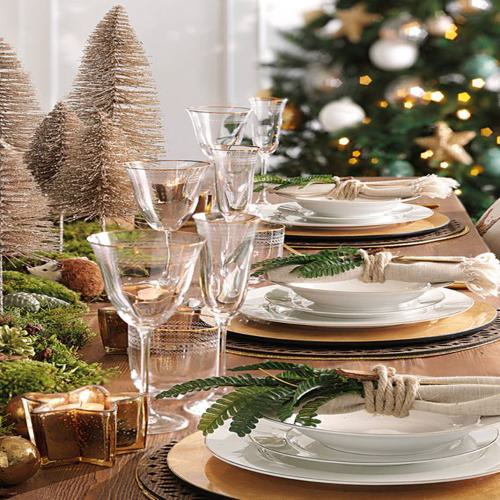copa: (88, 232, 205, 438), (194, 214, 259, 398), (126, 164, 210, 286), (187, 105, 251, 216), (248, 95, 283, 211), (209, 146, 260, 216)
vaso: (126, 305, 219, 402)
